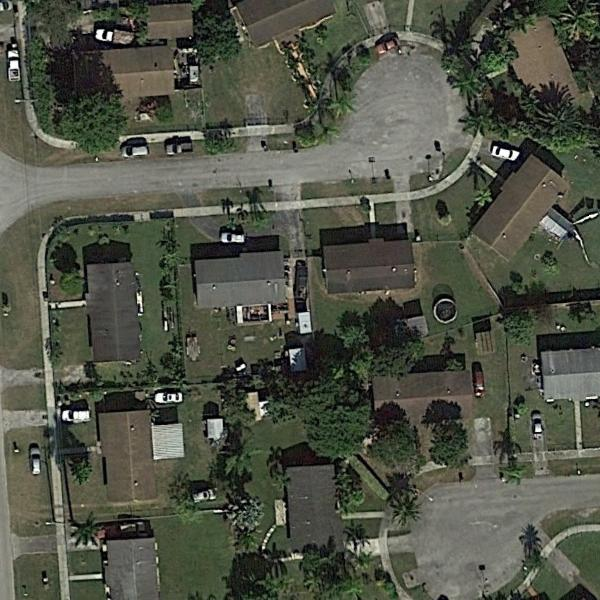Buildings: (475, 168, 555, 260), (85, 269, 140, 355), (245, 0, 326, 58), (89, 54, 178, 104), (100, 419, 170, 481), (195, 258, 294, 301), (385, 376, 483, 418), (325, 246, 416, 289), (107, 537, 159, 600), (289, 473, 339, 536), (542, 348, 600, 388)
